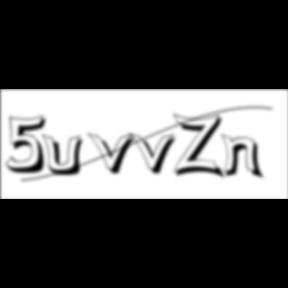5: (6, 114, 53, 176)
Z: (174, 112, 228, 181)
n: (222, 132, 268, 181)
u: (42, 132, 90, 178)
v: (88, 131, 142, 177), (129, 131, 183, 177)
